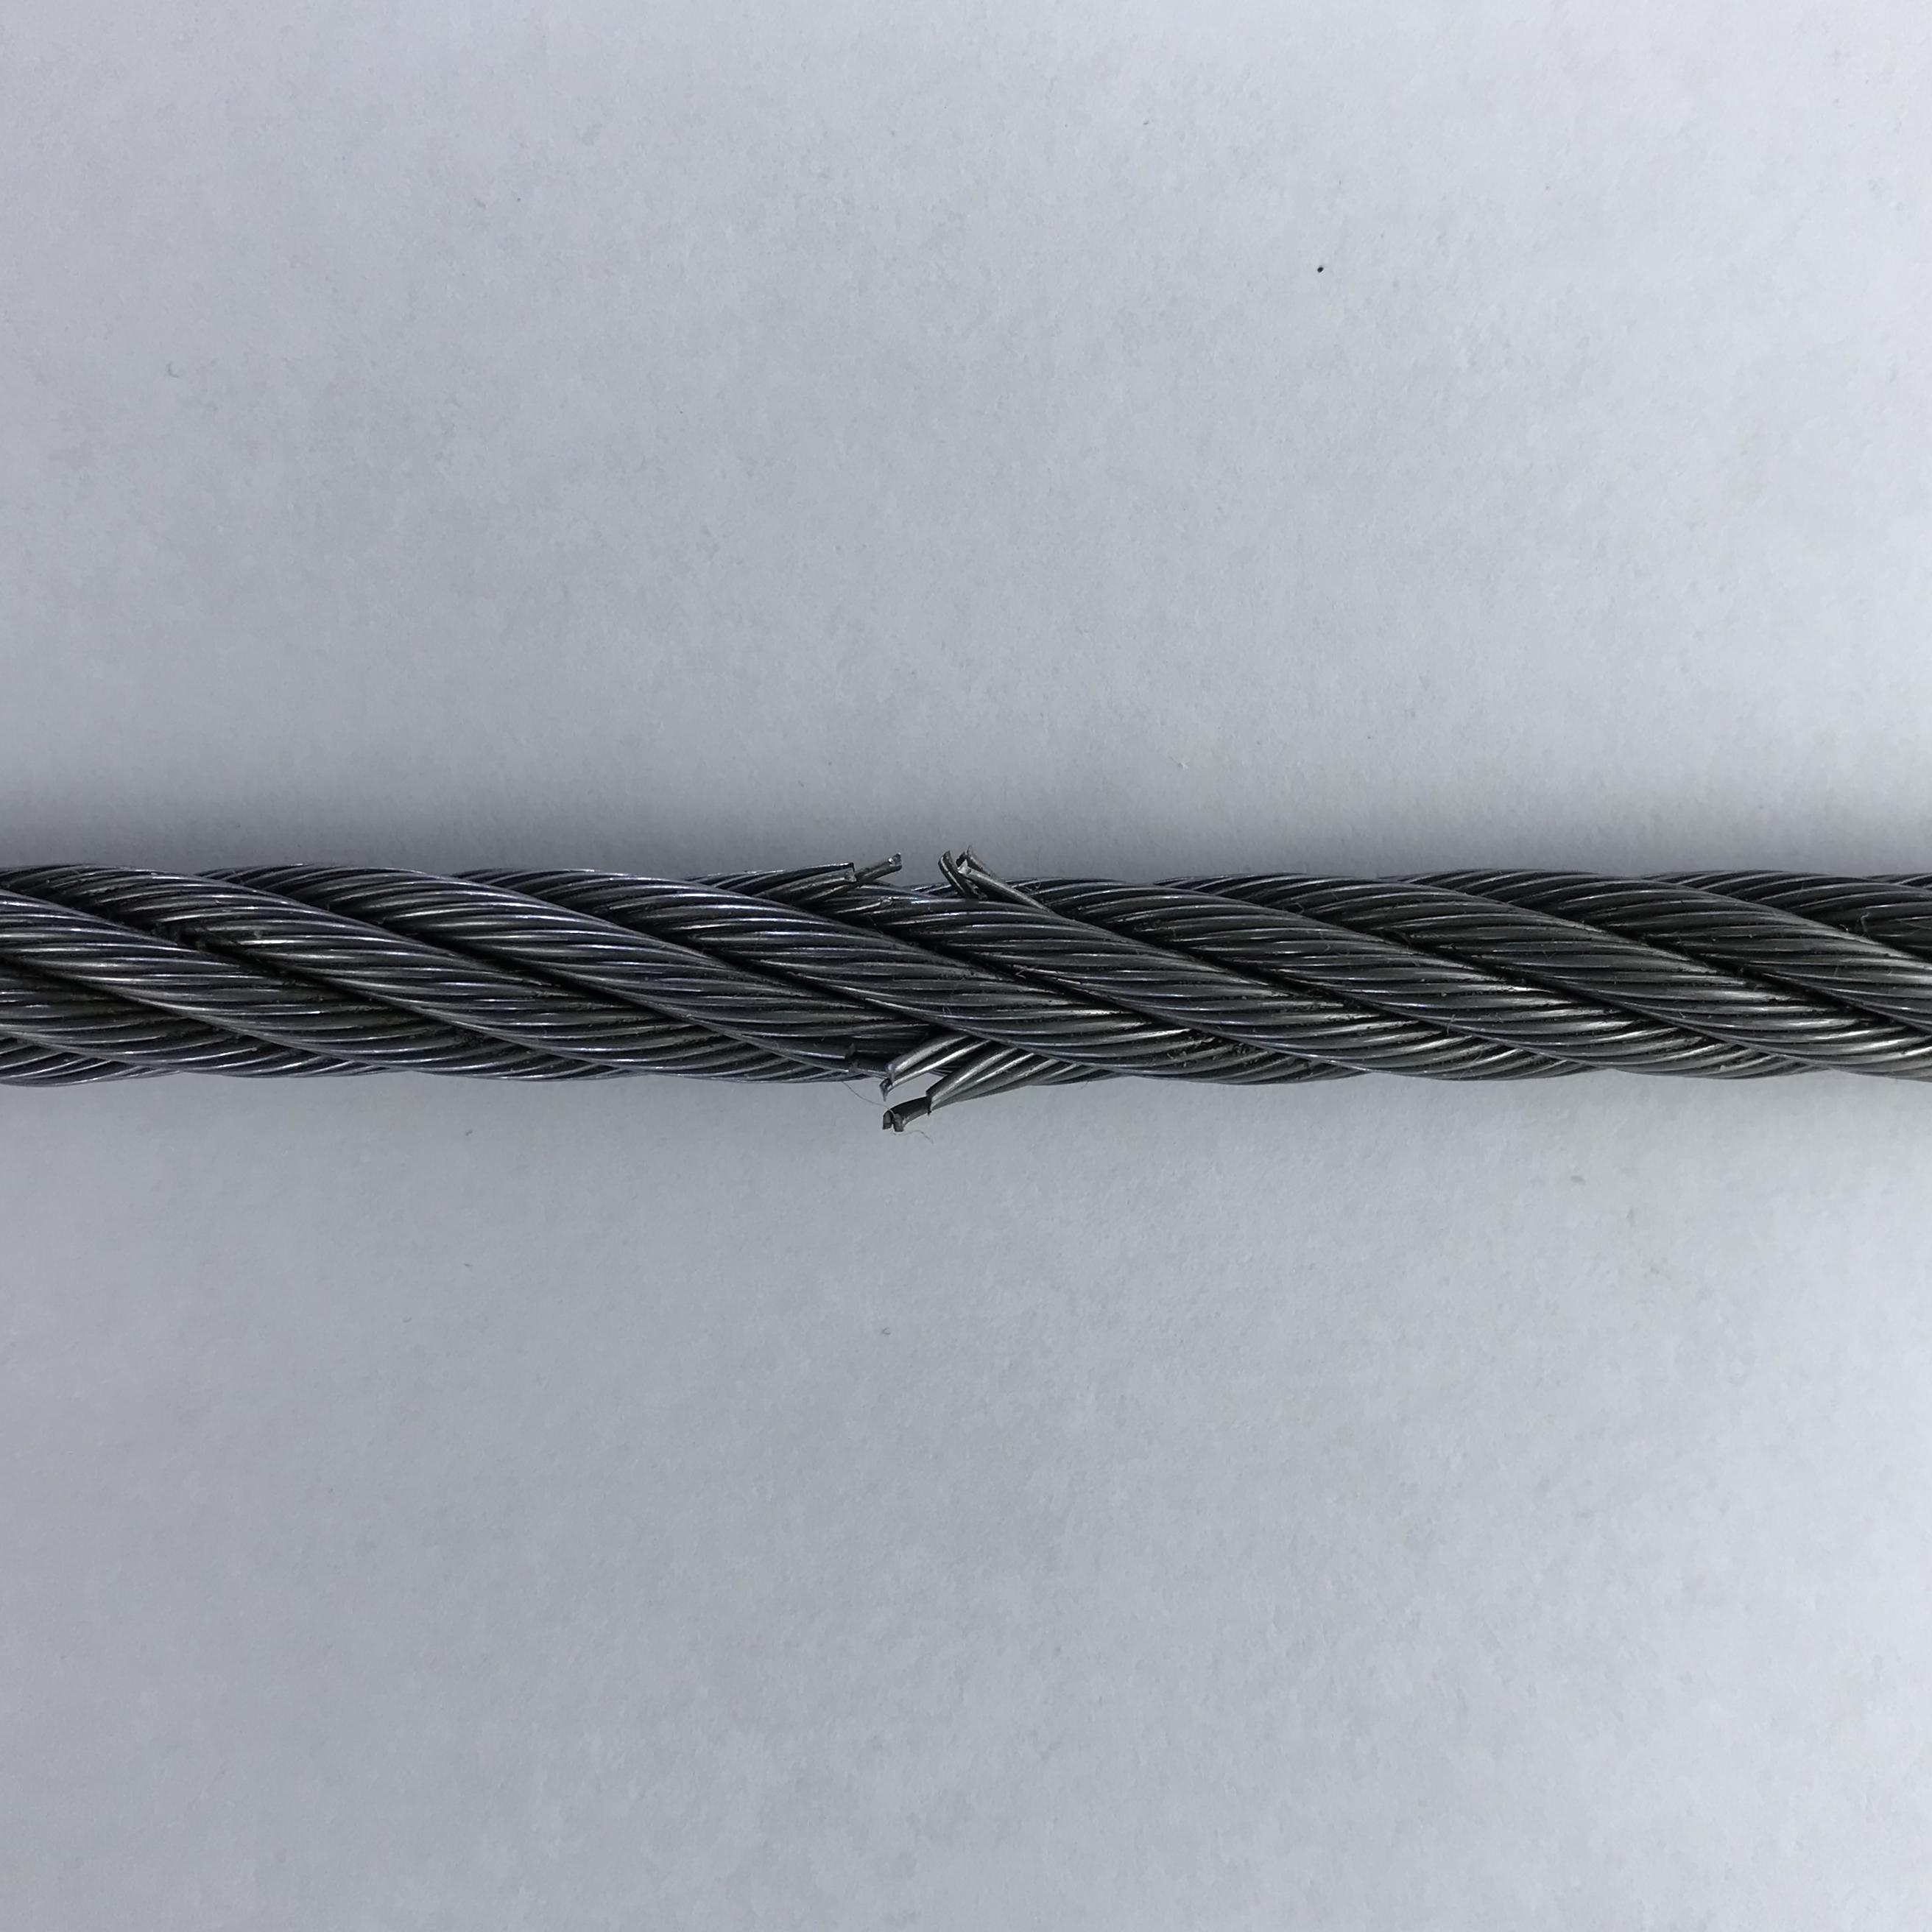break: (840, 1003, 1051, 1145), (830, 837, 1023, 922)
